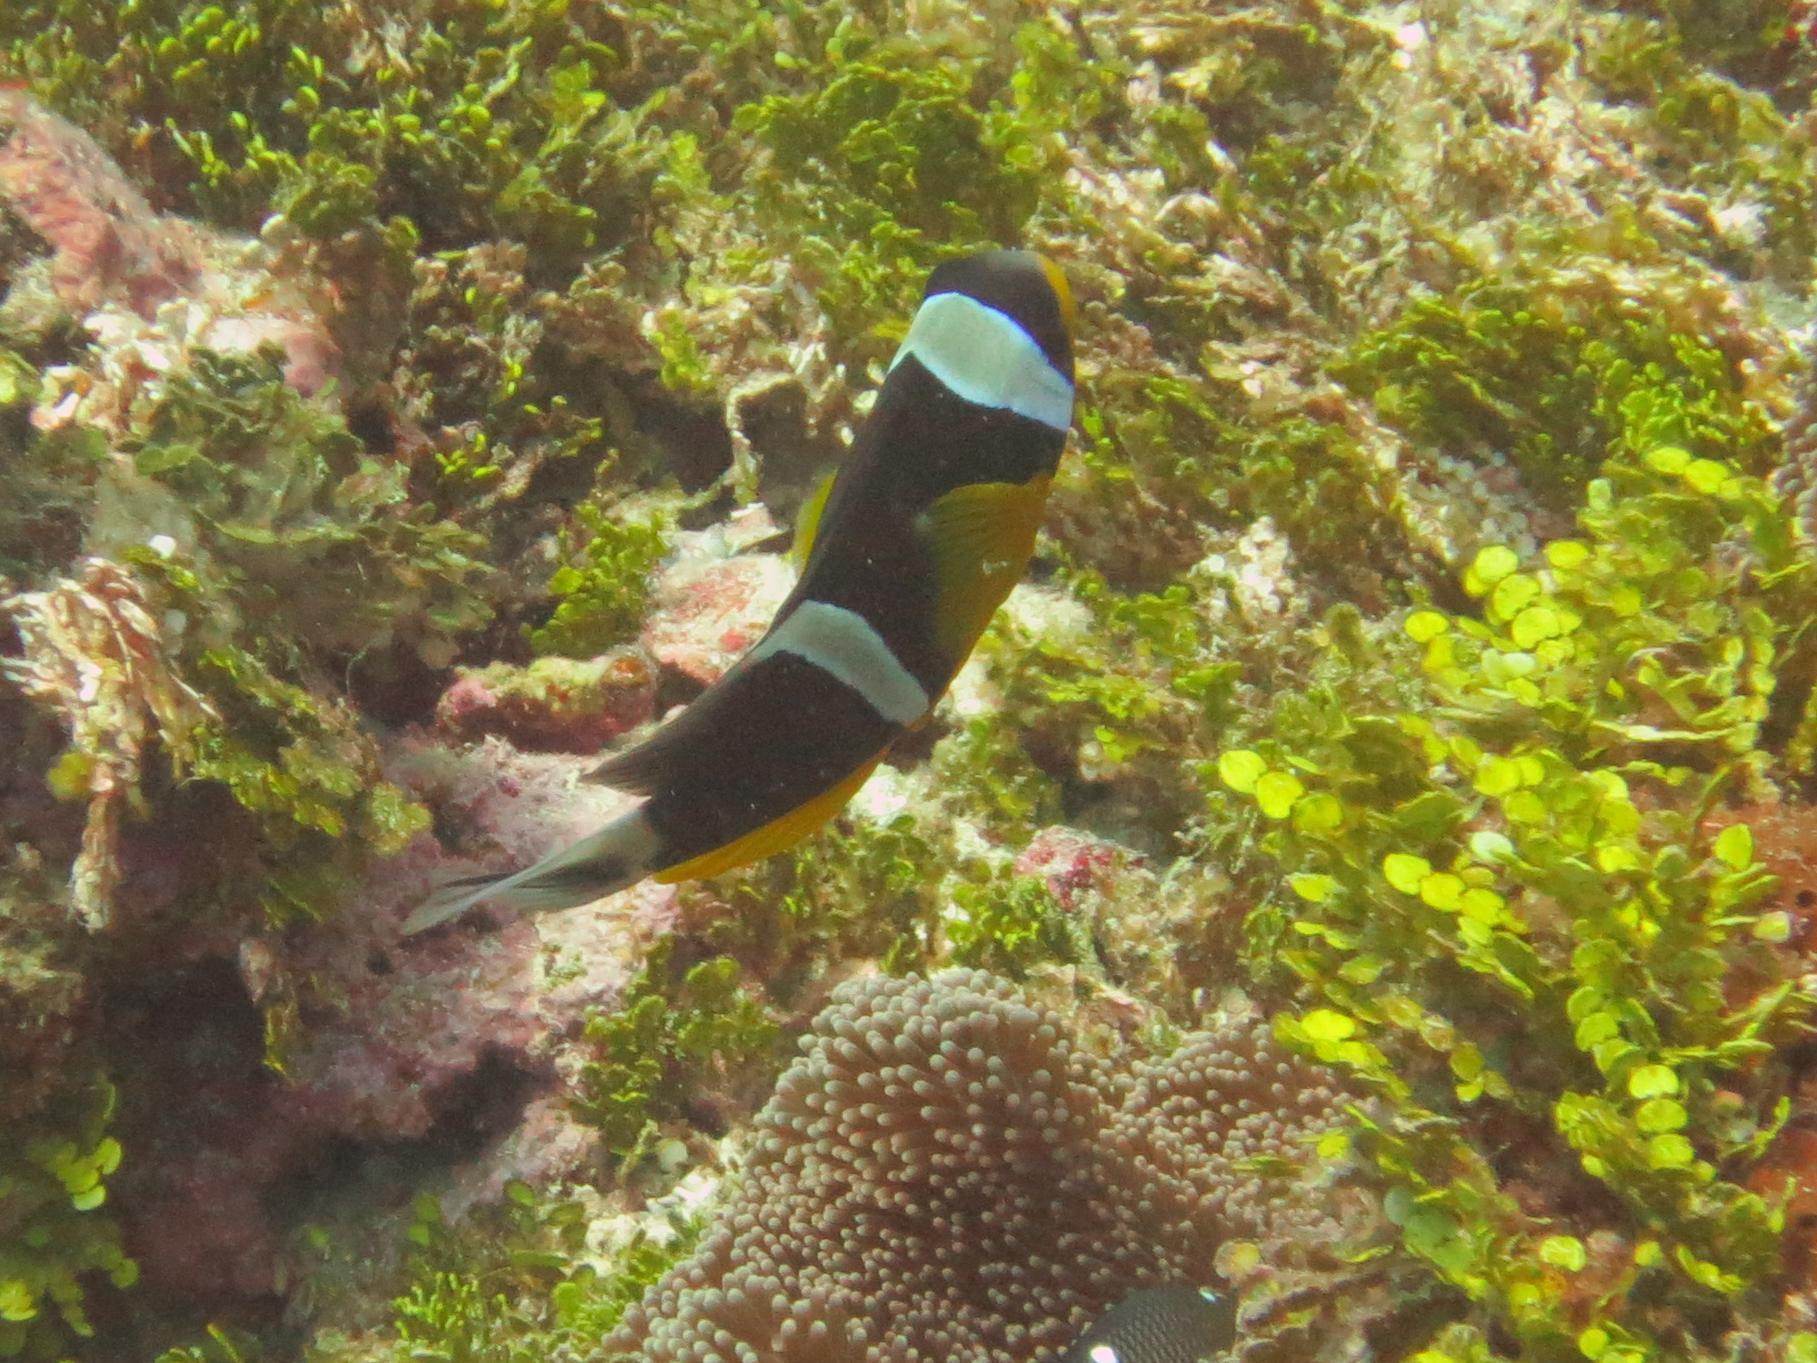Fish: (392, 233, 1095, 964)
